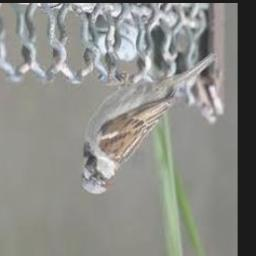Sparrow: (80, 49, 217, 195)
